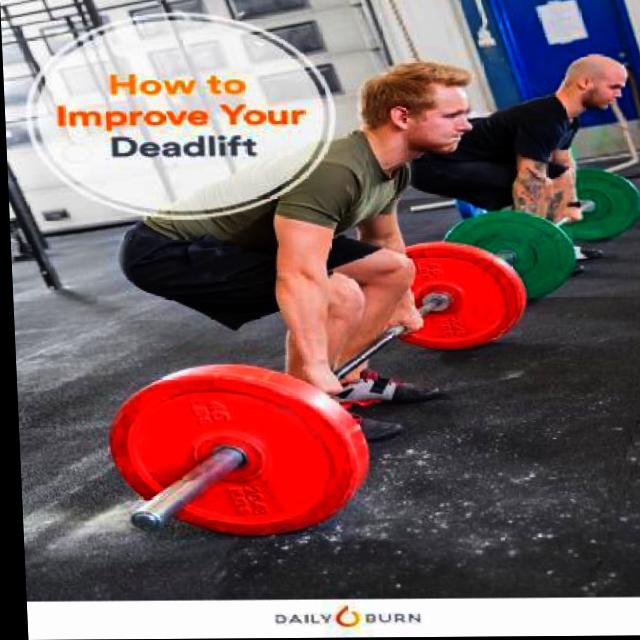barbell: (99, 368, 358, 536)
